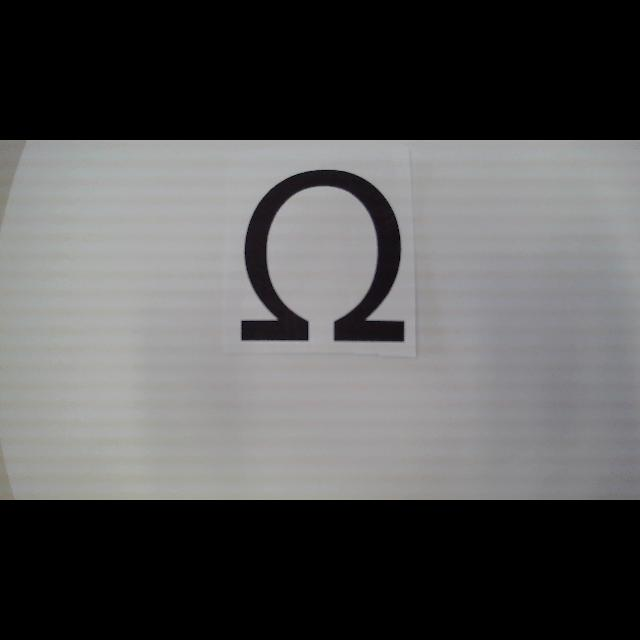OMEGA: (242, 170, 404, 342)
